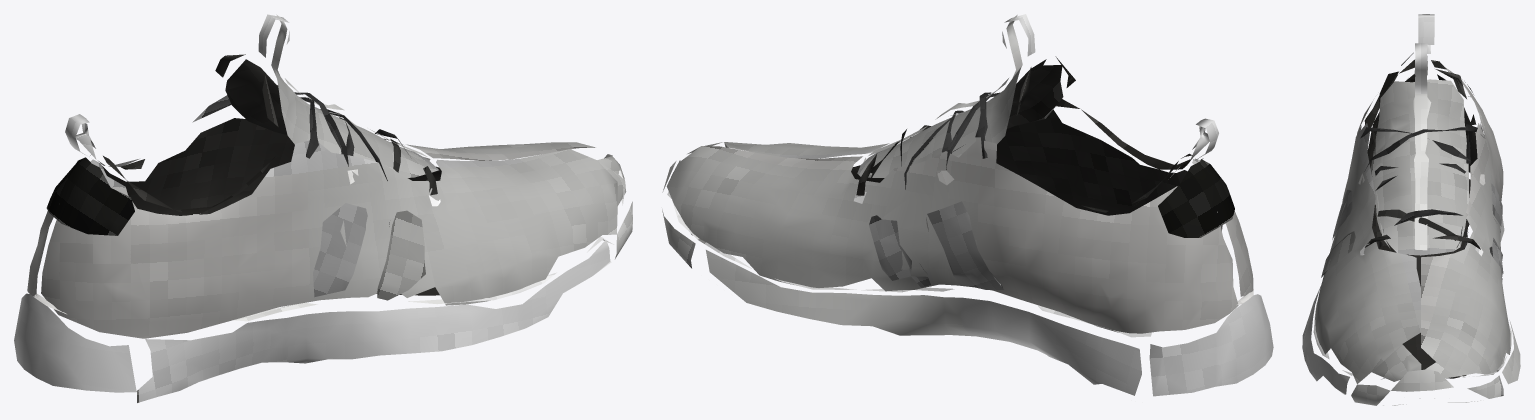
File: shoe-cloud-far.glb
The picture shows the model from 3 angles, left to right: view 1: azimuth 30°, elevation 25°; view 2: azimuth 150°, elevation 25°; view 3: azimuth 270°, elevation 25°; orthographic projection. The views are drawn at different scales.
Visible parts, largest first — view 1: Shoe; view 2: Shoe; view 3: Shoe.
Part boxes in pixels (left/top/right/bottom): Shoe: left=14, top=14, right=632, bottom=402; Shoe: left=662, top=14, right=1273, bottom=396; Shoe: left=1302, top=14, right=1520, bottom=405.
Size of the model in its own units: 0.2957 by 0.1512 by 0.1145.
Materials: 1 (1 with a texture image).
